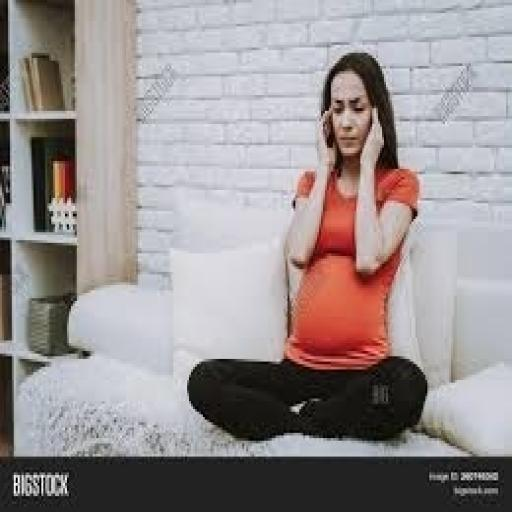sitting: (185, 48, 429, 444)
